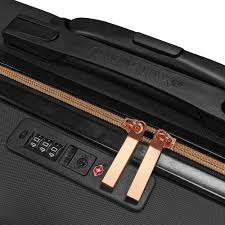suitcase: (1, 1, 223, 225)
